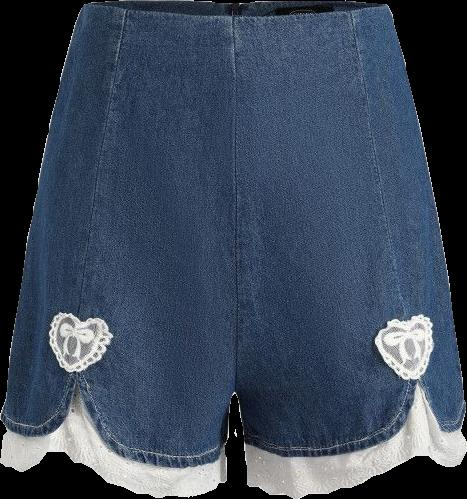Hemline: (245, 445, 466, 498), (0, 449, 228, 498)
Pantleg: (231, 1, 466, 498), (0, 0, 235, 497)
Waistline: (243, 10, 419, 460), (74, 7, 227, 468), (2, 364, 78, 435), (83, 2, 384, 18), (415, 375, 463, 431)
